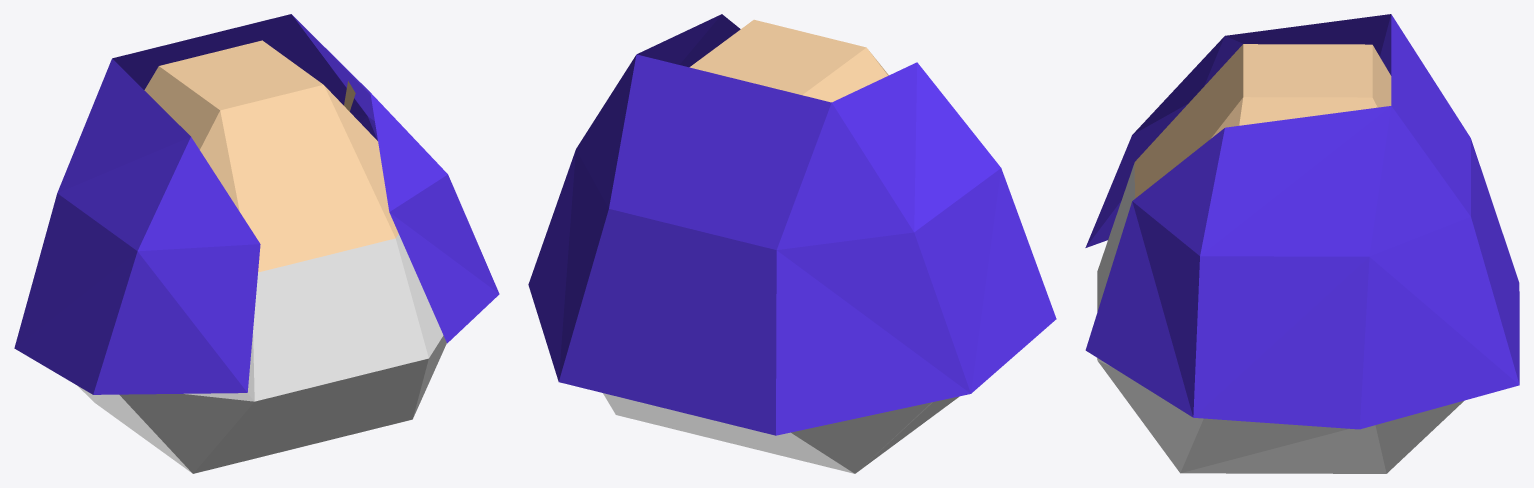
Rendered from Toad_Body.obj.
3 views of the same model, side by side, from view 1: azimuth 30°, elevation 25°; view 2: azimuth 150°, elevation 25°; view 3: azimuth 270°, elevation 25° (orthographic). The views are drawn at different scales.
Visible parts, largest first — view 1: Toad; view 2: Toad; view 3: Toad.
Part boxes in pixels (bbox=[...]): Toad: bbox=[14, 14, 499, 473]; Toad: bbox=[528, 14, 1056, 473]; Toad: bbox=[1085, 14, 1519, 473].
Bounding box in the file's own units: 0.6896 × 0.5494 × 0.6039.
4 materials, 4 textured.
